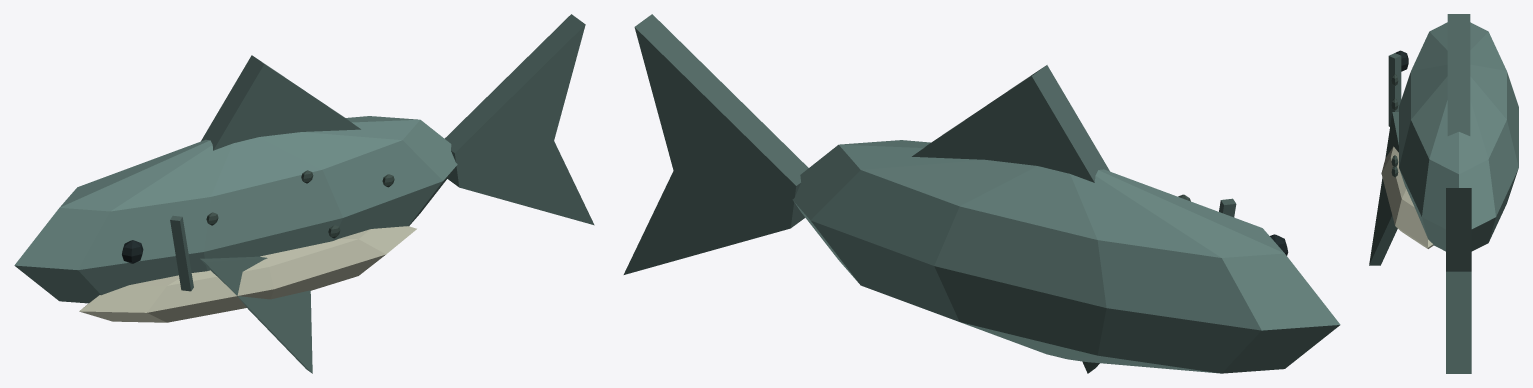
File: rawTrout.glb
3 views of the same model, side by side, from view 1: azimuth 30°, elevation 25°; view 2: azimuth 150°, elevation 25°; view 3: azimuth 270°, elevation 25° (orthographic). The views are drawn at different scales.
Visible parts, largest first — view 1: rawTrout; view 2: rawTrout; view 3: rawTrout.
Part boxes in pixels (x1,y1,x2,y2): rawTrout: [14, 14, 594, 373]; rawTrout: [623, 14, 1340, 373]; rawTrout: [1369, 14, 1518, 373].
Size of the model in its own units: 1 by 0.4646 by 0.2527.
